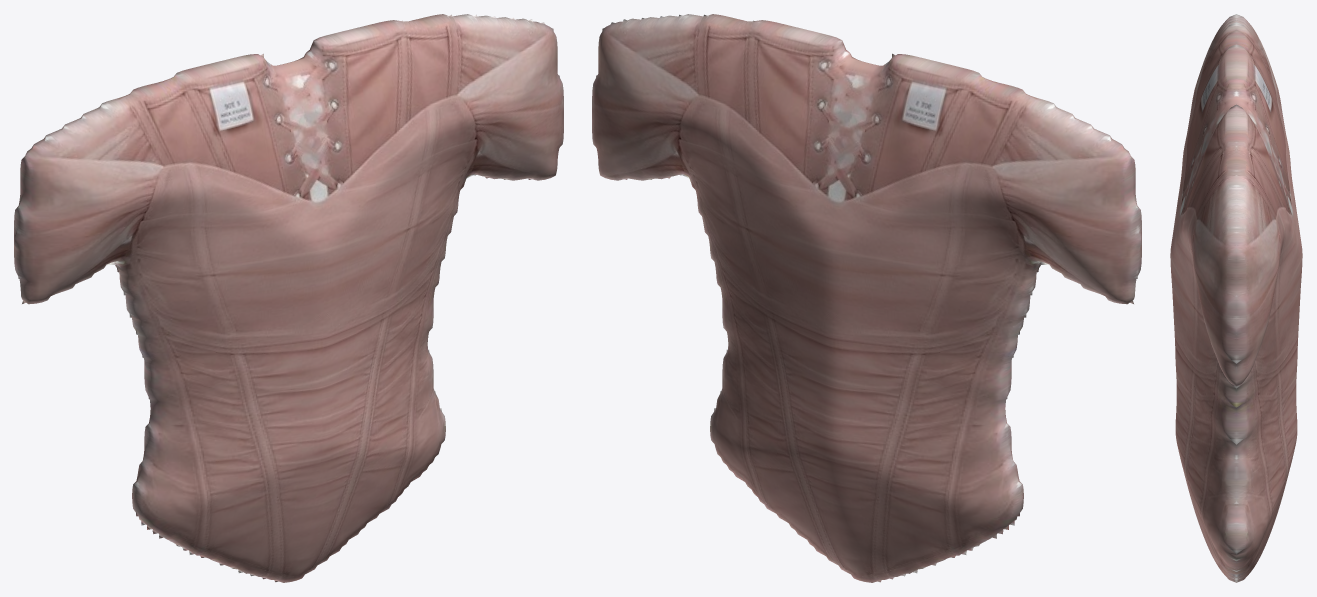
File: prod-ae-blush-ruched-offshoulder.glb
The picture shows the model from 3 angles, left to right: view 1: azimuth 30°, elevation 25°; view 2: azimuth 150°, elevation 25°; view 3: azimuth 270°, elevation 25°; orthographic projection. The views are drawn at different scales.
Parts seen in each view (by area): view 1: prod-ae-blush-ruched-offshoulder_standalone; view 2: prod-ae-blush-ruched-offshoulder_standalone; view 3: prod-ae-blush-ruched-offshoulder_standalone.
Boxes of the visible parts, x1,y1,x2,y2 form: prod-ae-blush-ruched-offshoulder_standalone: [14, 14, 563, 582]; prod-ae-blush-ruched-offshoulder_standalone: [592, 14, 1141, 582]; prod-ae-blush-ruched-offshoulder_standalone: [1170, 14, 1302, 582].
Bounding box in the file's own units: 0.4481 × 0.4161 × 0.1028.
Materials: 1 (1 with a texture image).
